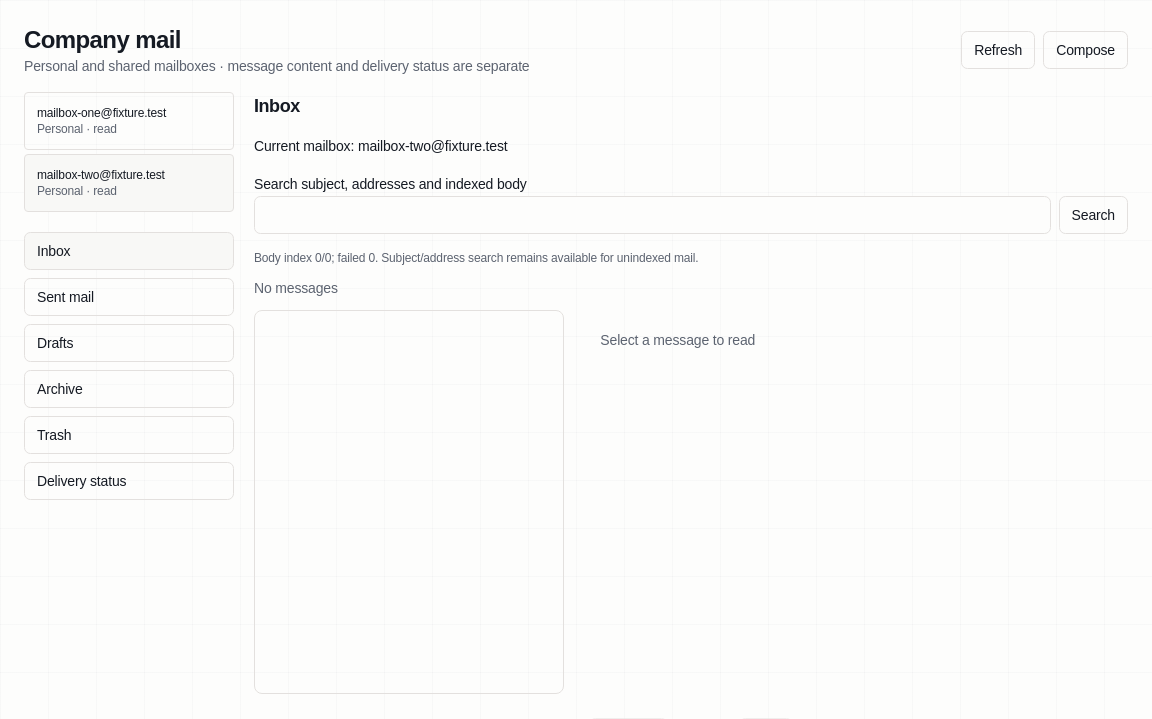
Scenario: explicit mailbox route recovery › R13 closes a revoked mailbox and its stream without a fallback read
The image size is (1152, 719).
Expected: the button "mailbox-one@fixture.test Personal · read" is shown, [24,92,234,150]
Click the button "Refresh": (998, 50) [961,31,1035,69]
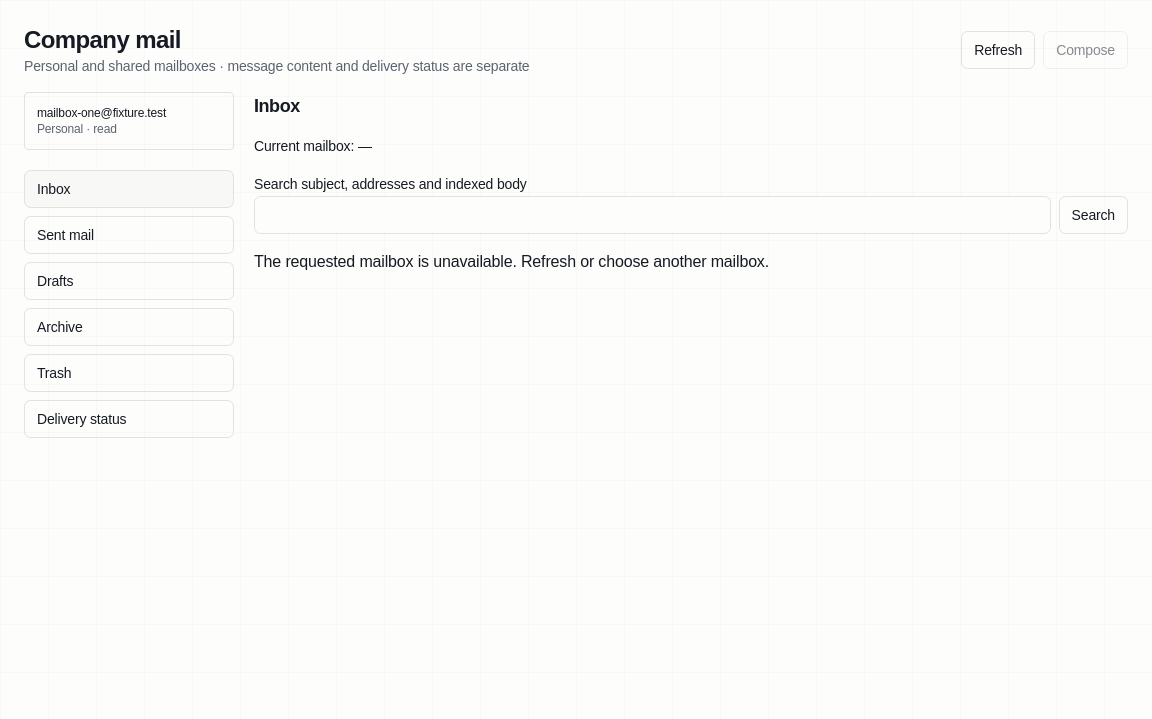
Result: the message reads "The requested mailbox is unavailable. Refresh or choose another mailbox." at [254,253,769,270]
Result: the button "Compose" is disabled at [1043,31,1128,69]
